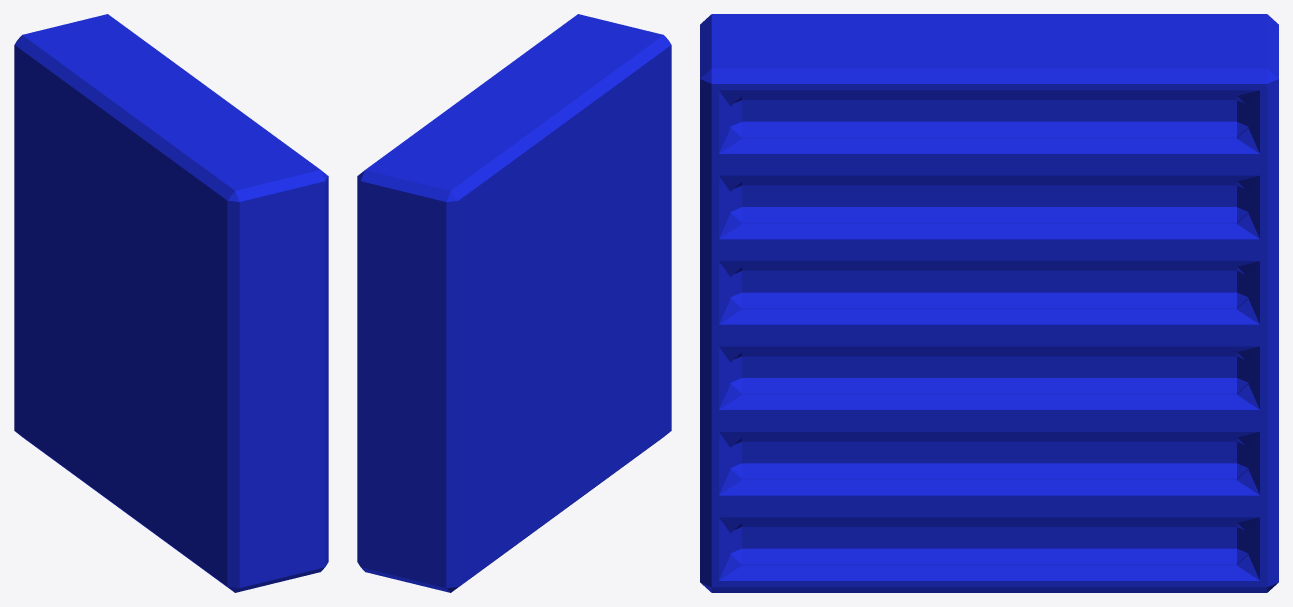
Rendered from vent.fbx.
The picture shows the model from 3 angles, left to right: view 1: azimuth 30°, elevation 25°; view 2: azimuth 150°, elevation 25°; view 3: azimuth 270°, elevation 25°; orthographic projection. The views are drawn at different scales.
Parts seen in each view (by area): view 1: Cube; view 2: Cube; view 3: Cube.
Part boxes in pixels (x1=…): Cube: x1=14, y1=14, x2=328, y2=592; Cube: x1=357, y1=14, x2=671, y2=592; Cube: x1=700, y1=14, x2=1278, y2=592.
Bounding box in the file's own units: 26.29 × 100 × 100.
